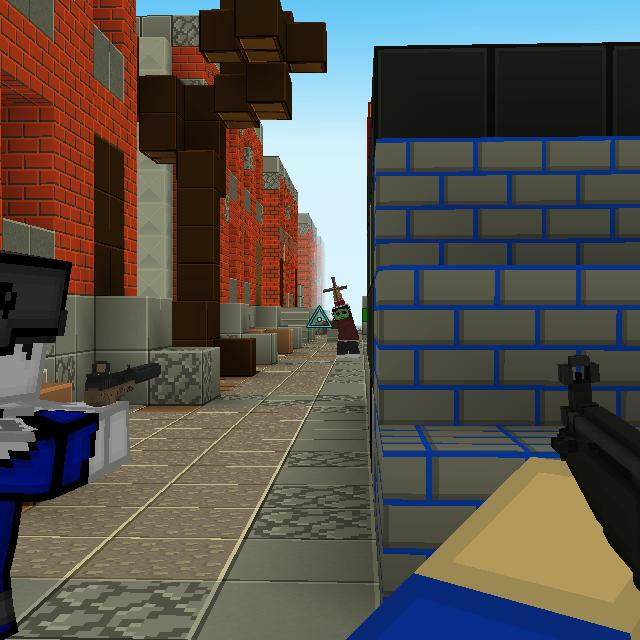enemy: (322, 272, 364, 358)
